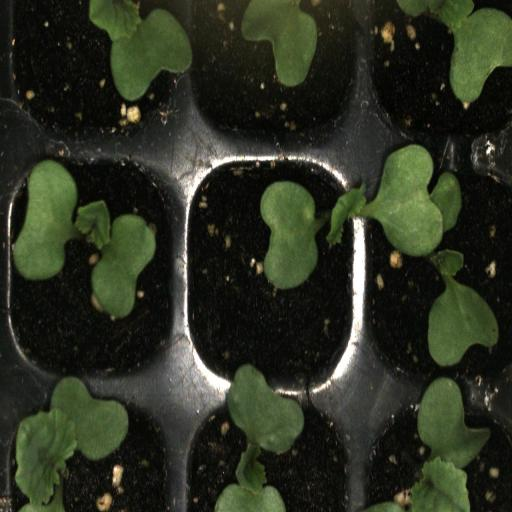seedling: (185, 149, 376, 400), (4, 146, 186, 402), (179, 397, 364, 512), (8, 397, 180, 512), (358, 395, 512, 512)
